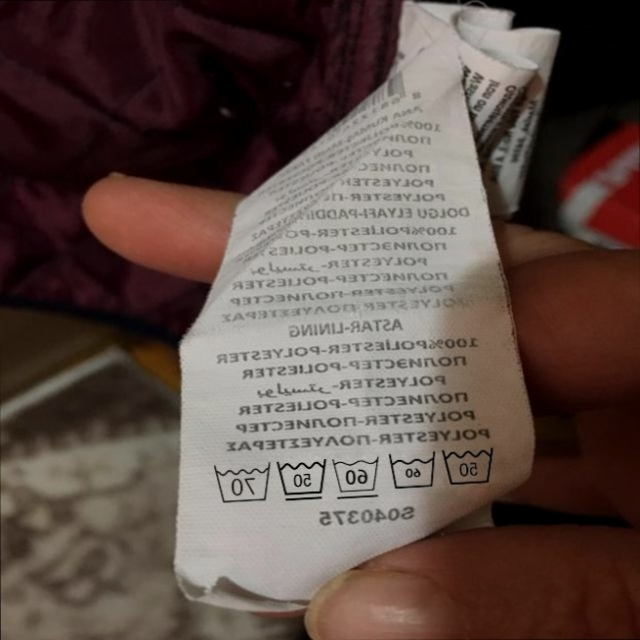50C: (438, 440, 500, 490), (273, 455, 329, 504)
60C: (328, 452, 381, 500), (384, 448, 438, 494)
70C: (207, 460, 271, 505)
